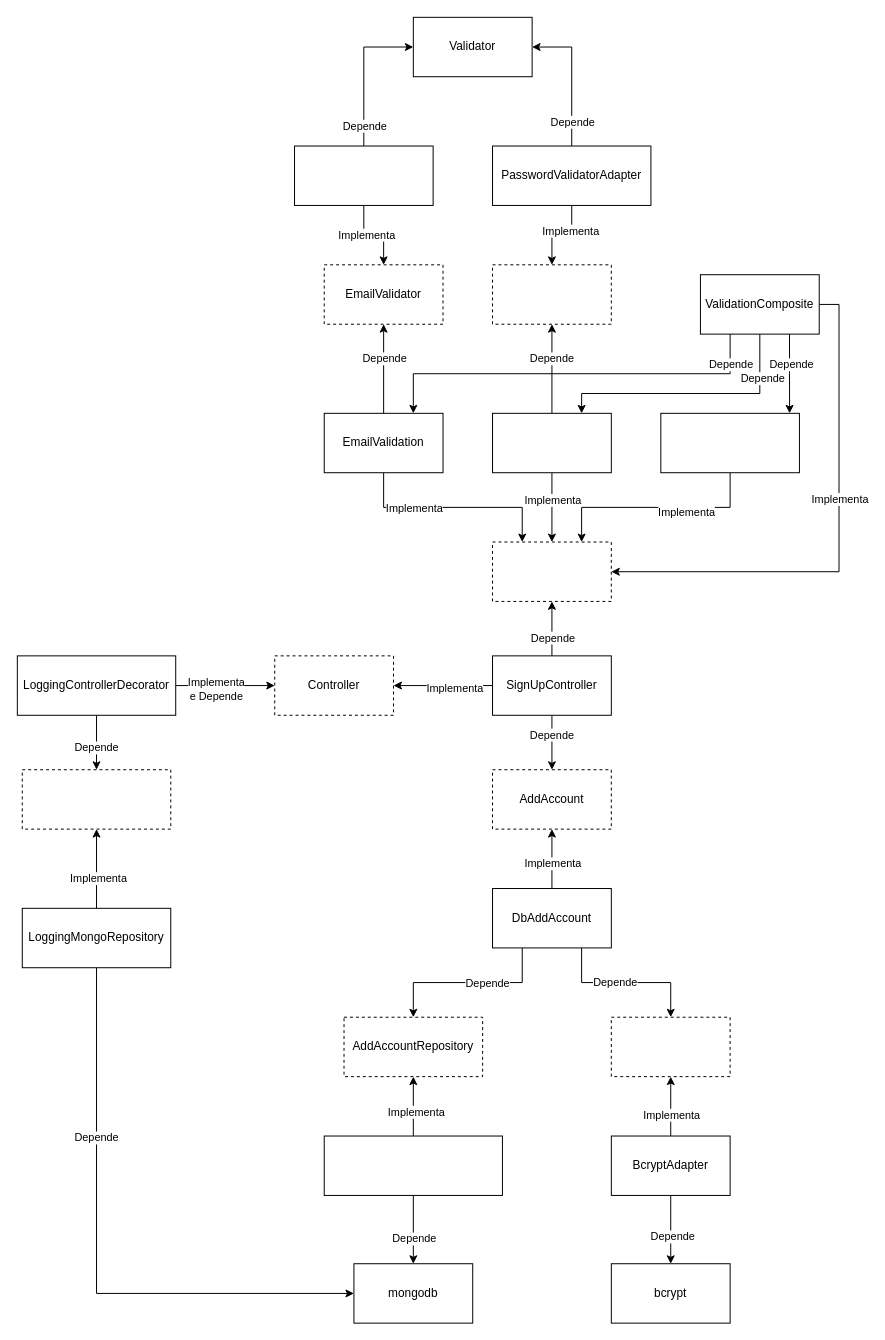
This 885x1340 diagram has some shape labels left out. The shapes that lost their labels are listed below. From the top down, each one's centre as x and y in pixels, then its label:
At (x=363, y=175): "EmailValidatorAdapter".
At (x=551, y=294): "PasswordValidator".
At (x=551, y=442): "PasswordValidation".
At (x=729, y=442): "RequiredFieldsValidation".
At (x=551, y=571): "Validation".
At (x=96, y=799): "LoggingRepository".
At (x=670, y=1046): "Encrypter".
At (x=412, y=1165): "AddAccountMongoRepository".
